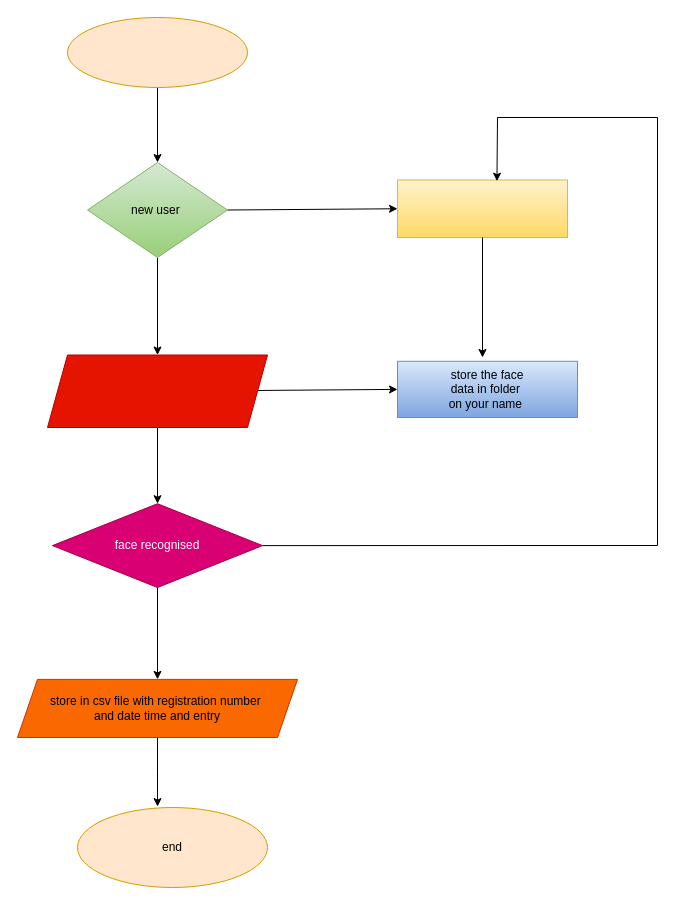
Some shapes in this 683 by 905 pixel diagram are drawn without their labels. Each missing label, with the centre of its shape:
give your paragraph: (482,208)
recognise the face: (157,391)
start: (157,52)
